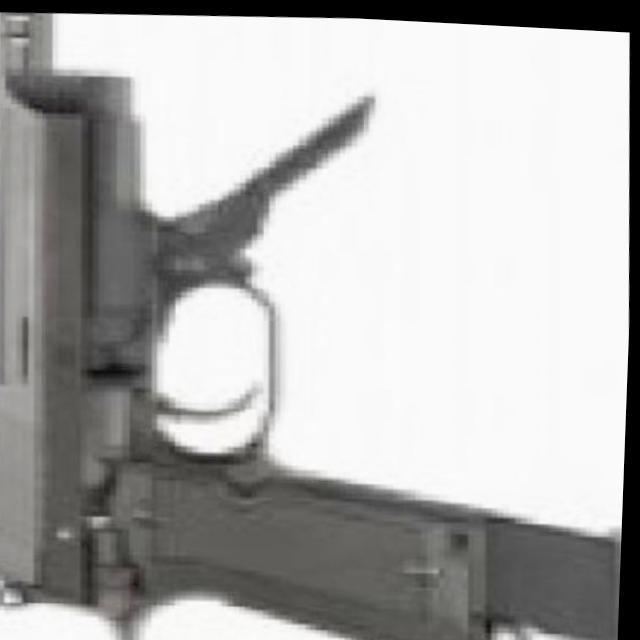gun: (0, 39, 530, 640)
